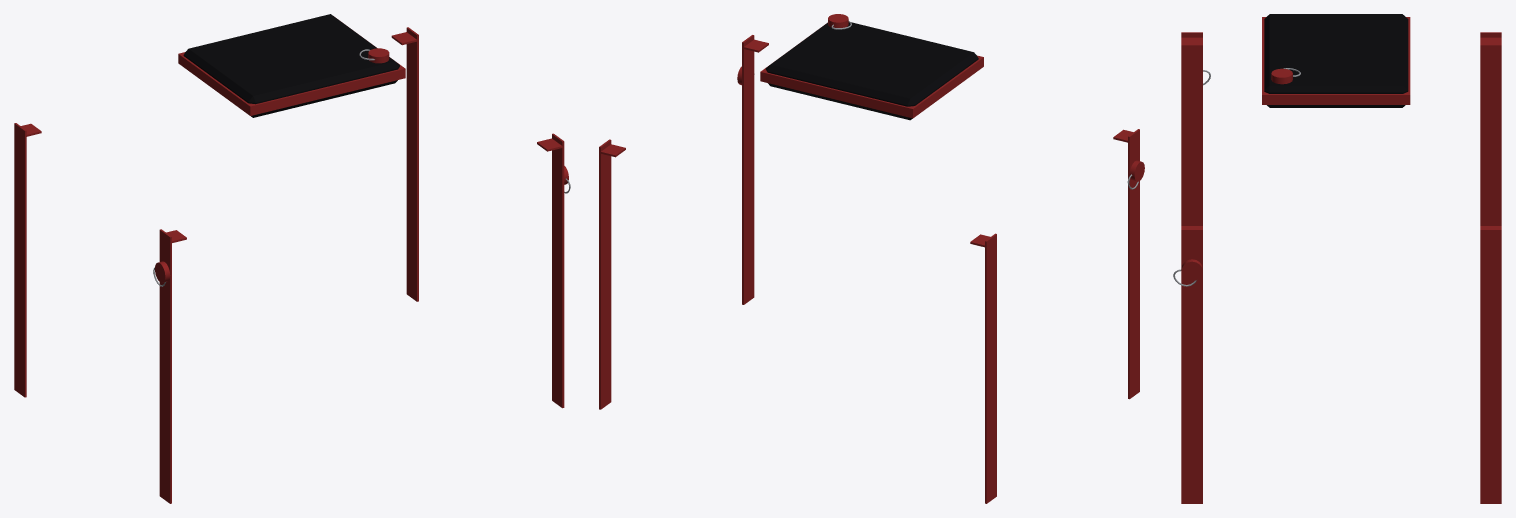
Rendered from z05_seal.obj.
3 renders of one model, left to right at view 1: azimuth 30°, elevation 25°; view 2: azimuth 150°, elevation 25°; view 3: azimuth 270°, elevation 25°, orthographic. The views are drawn at different scales.
Parts seen in each view (by area): view 1: z05_seal; view 2: z05_seal; view 3: z05_seal.
Boxes of the visible parts, box(x1,y1,x2,y2) form: z05_seal: box(14, 14, 570, 503); z05_seal: box(599, 14, 1144, 503); z05_seal: box(1173, 14, 1501, 503).
Size of the model in its own units: 1.33 by 1.11 by 0.9127.
